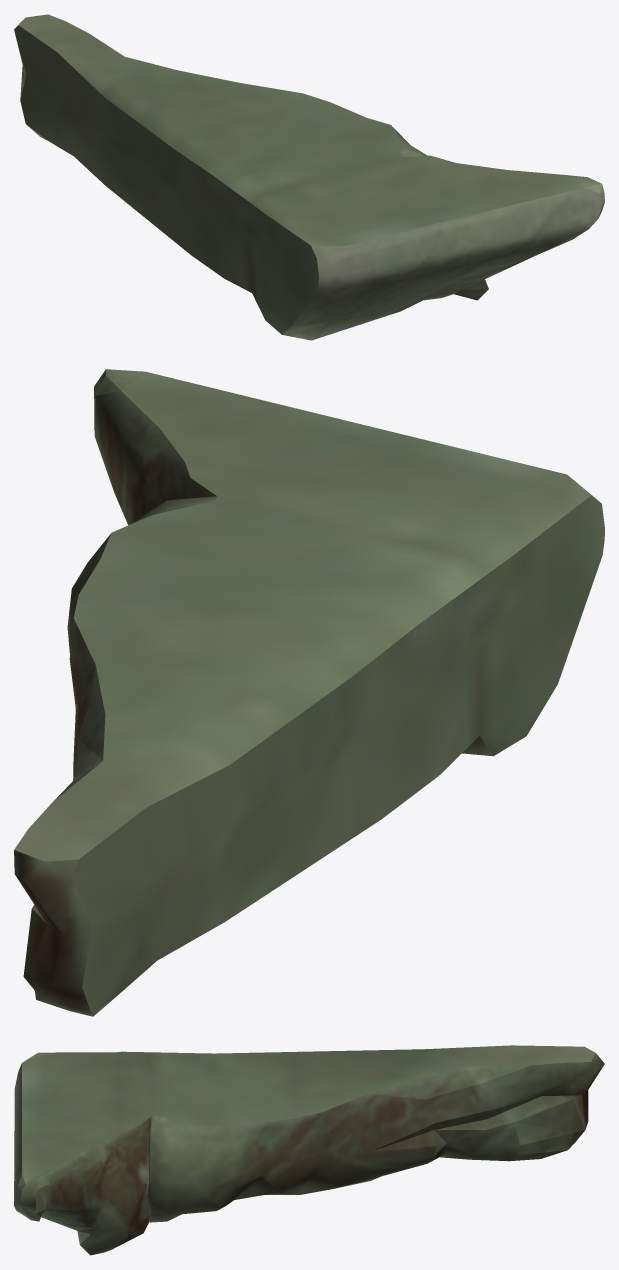
File: Ruins_Trim_Top_DMG_4M_B.fbx
3 views of the same model, one above another, from view 1: azimuth 30°, elevation 25°; view 2: azimuth 150°, elevation 25°; view 3: azimuth 270°, elevation 25° (orthographic). The views are drawn at different scales.
Parts seen in each view (by area): view 1: Ruins_Trim_Top_DMG_4M_B; view 2: Ruins_Trim_Top_DMG_4M_B; view 3: Ruins_Trim_Top_DMG_4M_B.
Part boxes in pixels (box(x1,y1,x2,y2)): Ruins_Trim_Top_DMG_4M_B: box(14, 14, 604, 340); Ruins_Trim_Top_DMG_4M_B: box(14, 369, 604, 1016); Ruins_Trim_Top_DMG_4M_B: box(14, 1045, 604, 1255).
Bounding box in the file's own units: 99.36 × 43.54 × 191.
